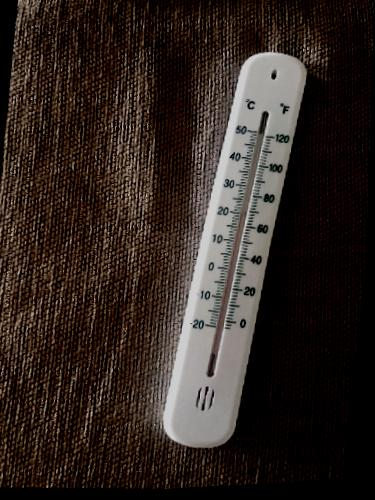thermo: (155, 47, 319, 452)
